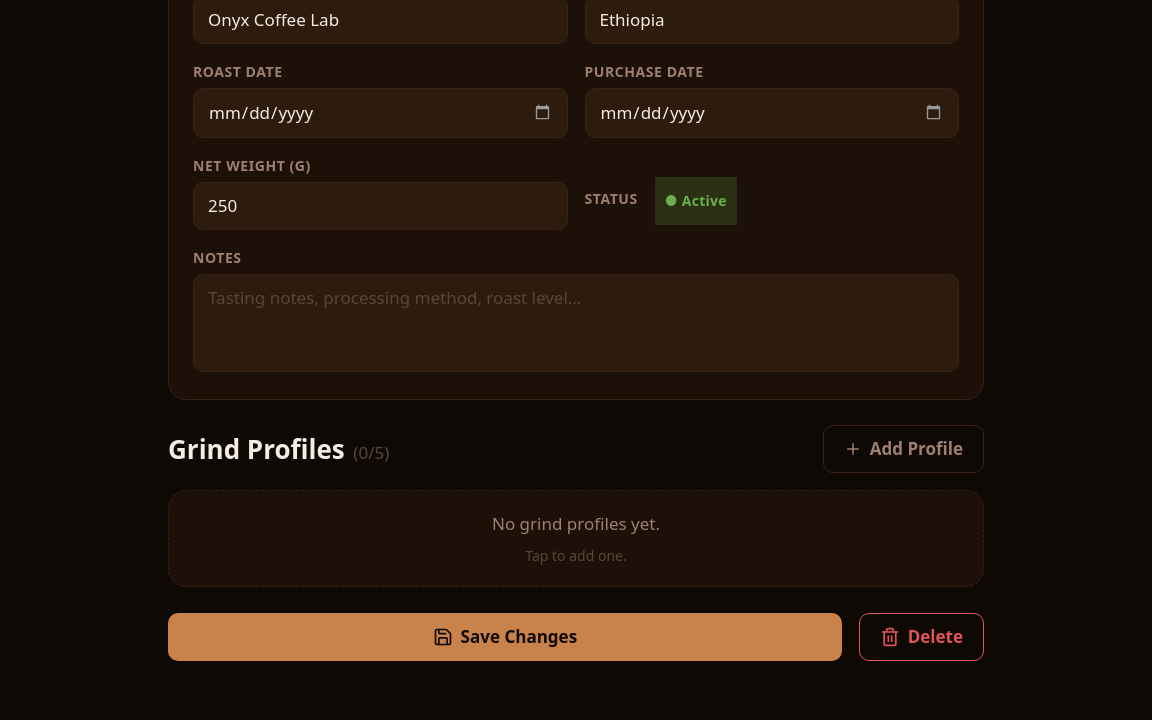
Test case: CoffeeForm › edit mode (with coffeeId) › shows delete confirmation dialog when Delete is clicked
This screenshot has width=1152, height=720.
(page scrolled)
Step 1. Click the button "Delete" → (921, 637), box [859,613,984,661]
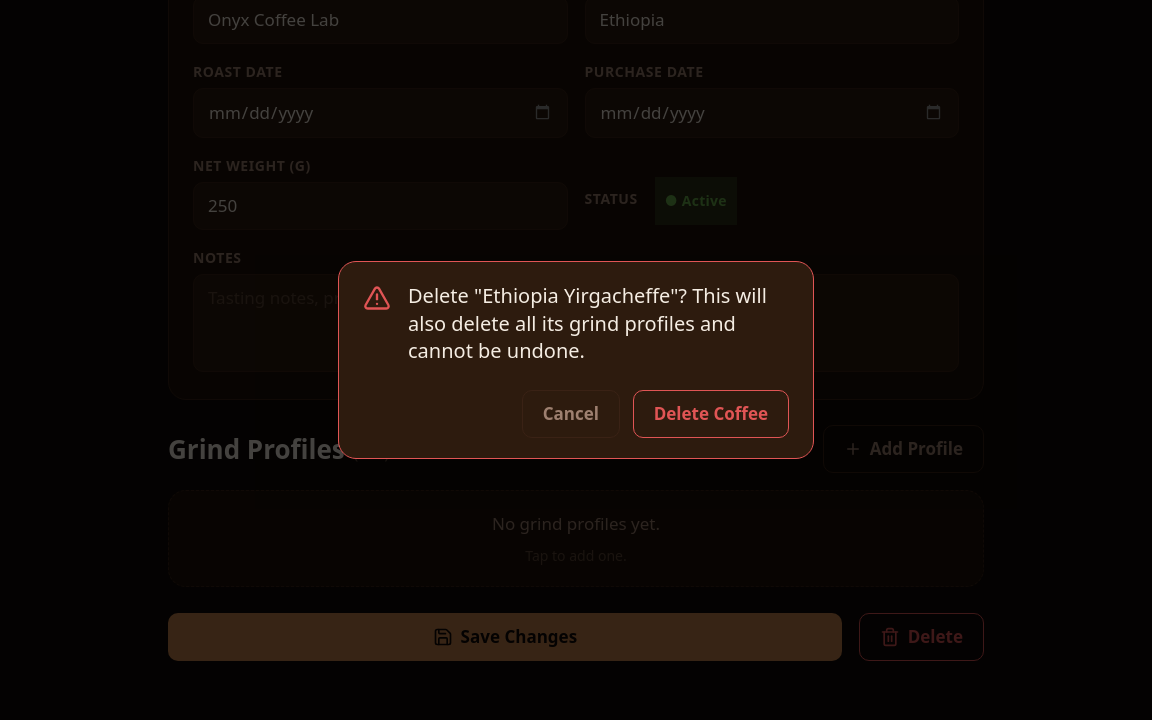
Expected: the button "Delete Coffee" is shown, [633,390,789,438]
